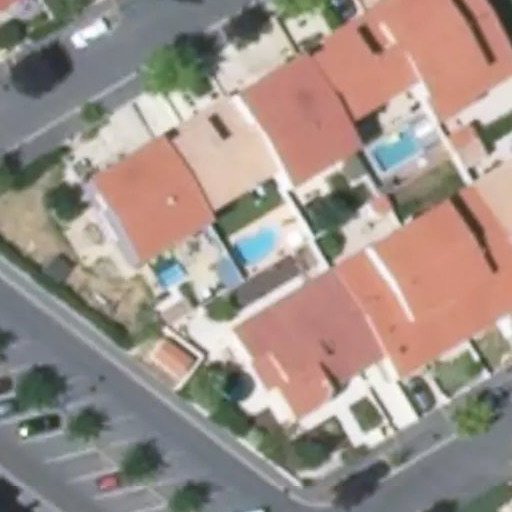pool: (226, 242, 287, 244)
